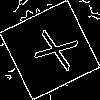X: (25, 25, 79, 72)
